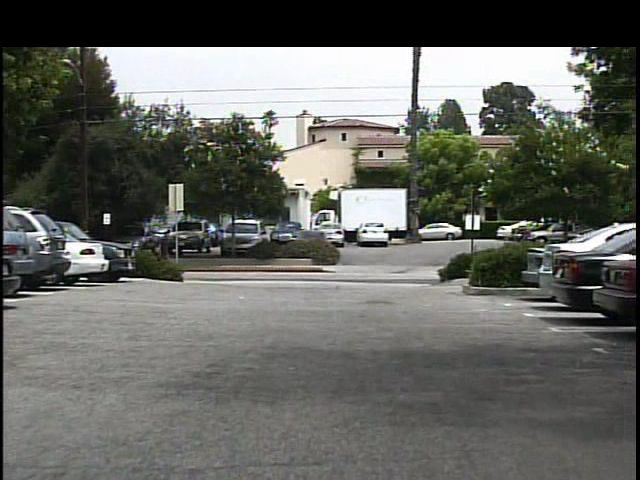person: (157, 225, 180, 275)
